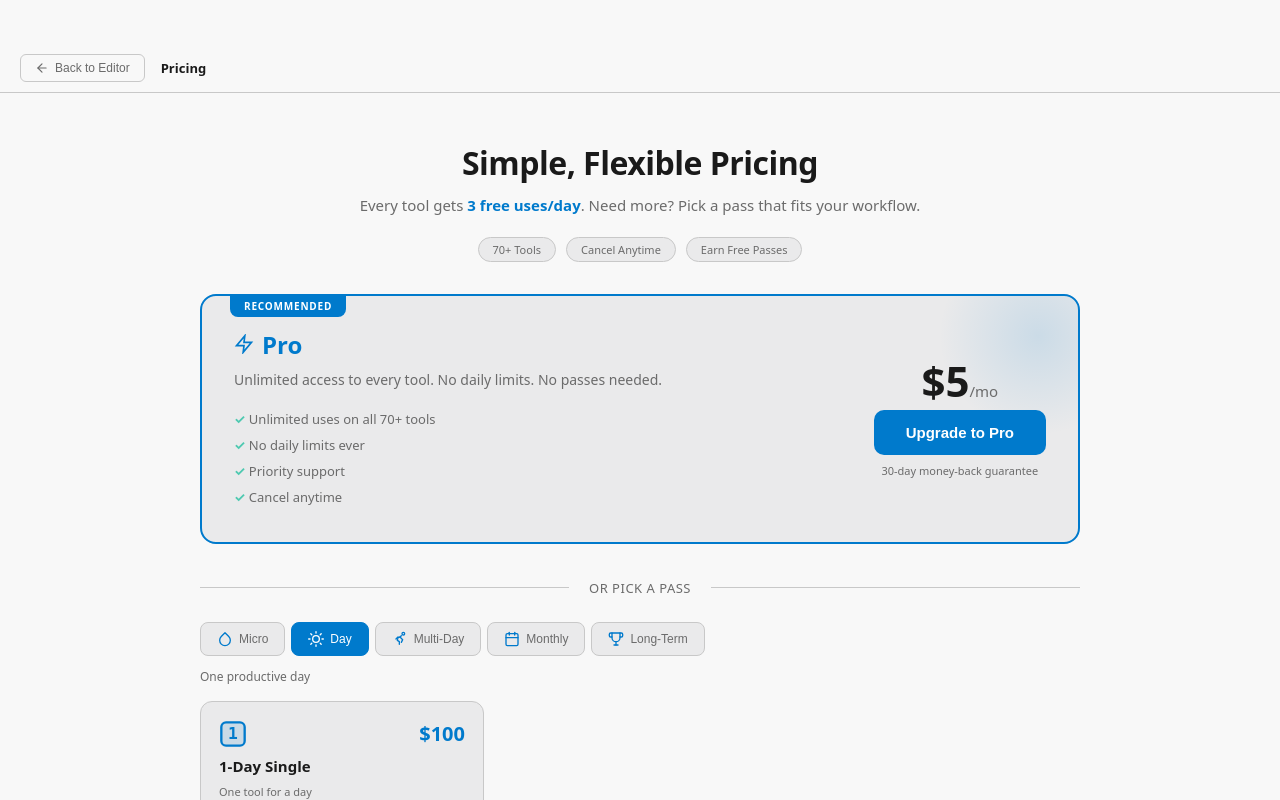
Test: PricingPage › switches pass group by clicking tabs
Click the button "Multi-Day". click: (428, 638)
box: [375, 622, 481, 656]
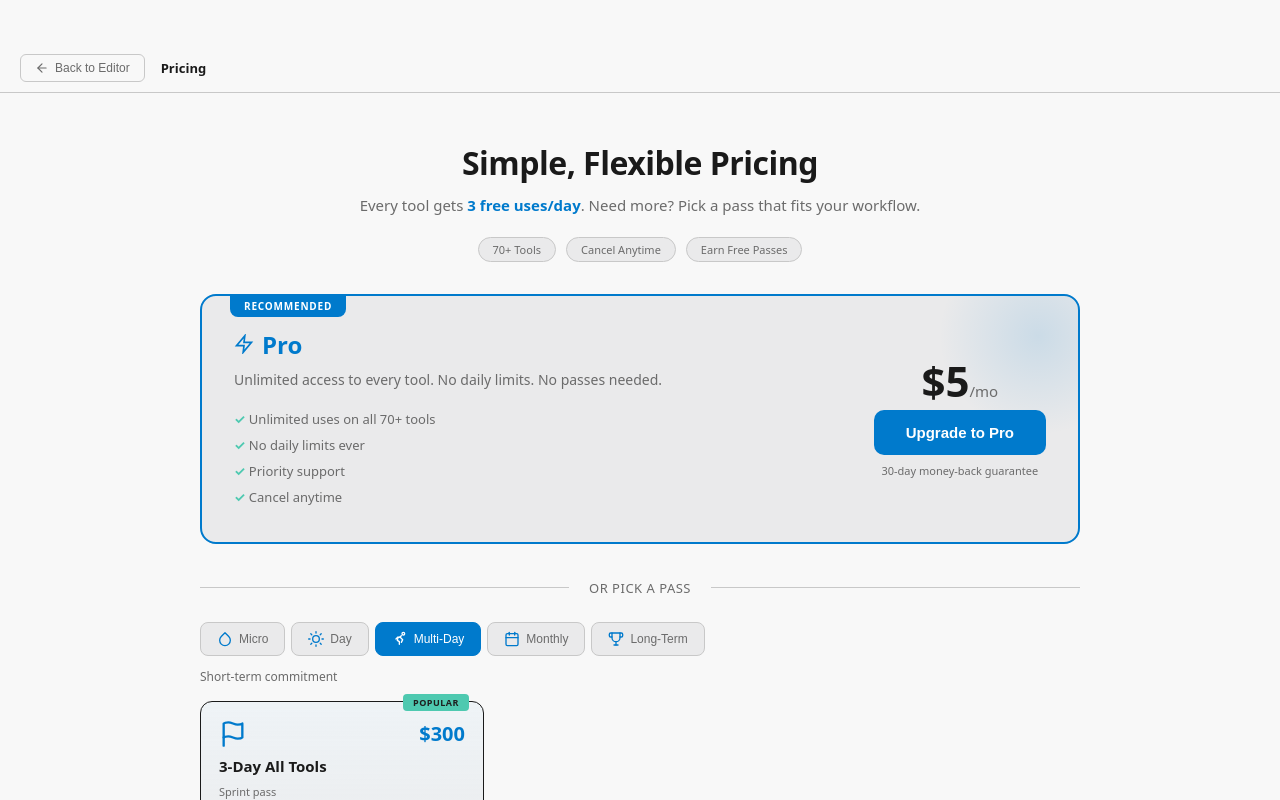
Result: the text "Short-term commitment" is shown at [200, 668, 337, 684]
